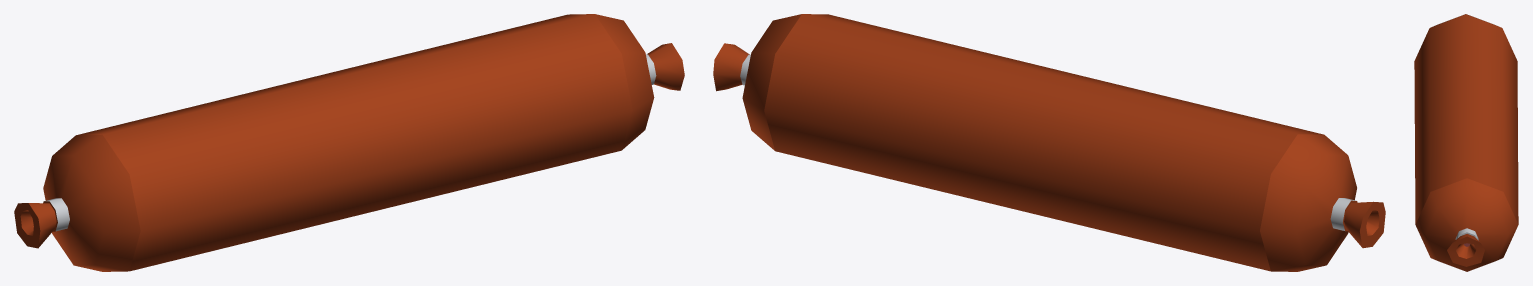
The model's file is Fridgerer_Sausage_01.glb.
The picture shows the model from 3 angles, left to right: view 1: azimuth 30°, elevation 25°; view 2: azimuth 150°, elevation 25°; view 3: azimuth 270°, elevation 25°; orthographic projection. The views are drawn at different scales.
Parts seen in each view (by area): view 1: Sausage1; view 2: Sausage1; view 3: Sausage1.
Boxes of the visible parts, x1,y1,x2,y2 form: Sausage1: (14, 14, 684, 271); Sausage1: (713, 14, 1385, 271); Sausage1: (1414, 14, 1518, 271).
Bounding box in the file's own units: 0.2502 × 0.0508 × 0.0513.
2 materials, 1 textured.
